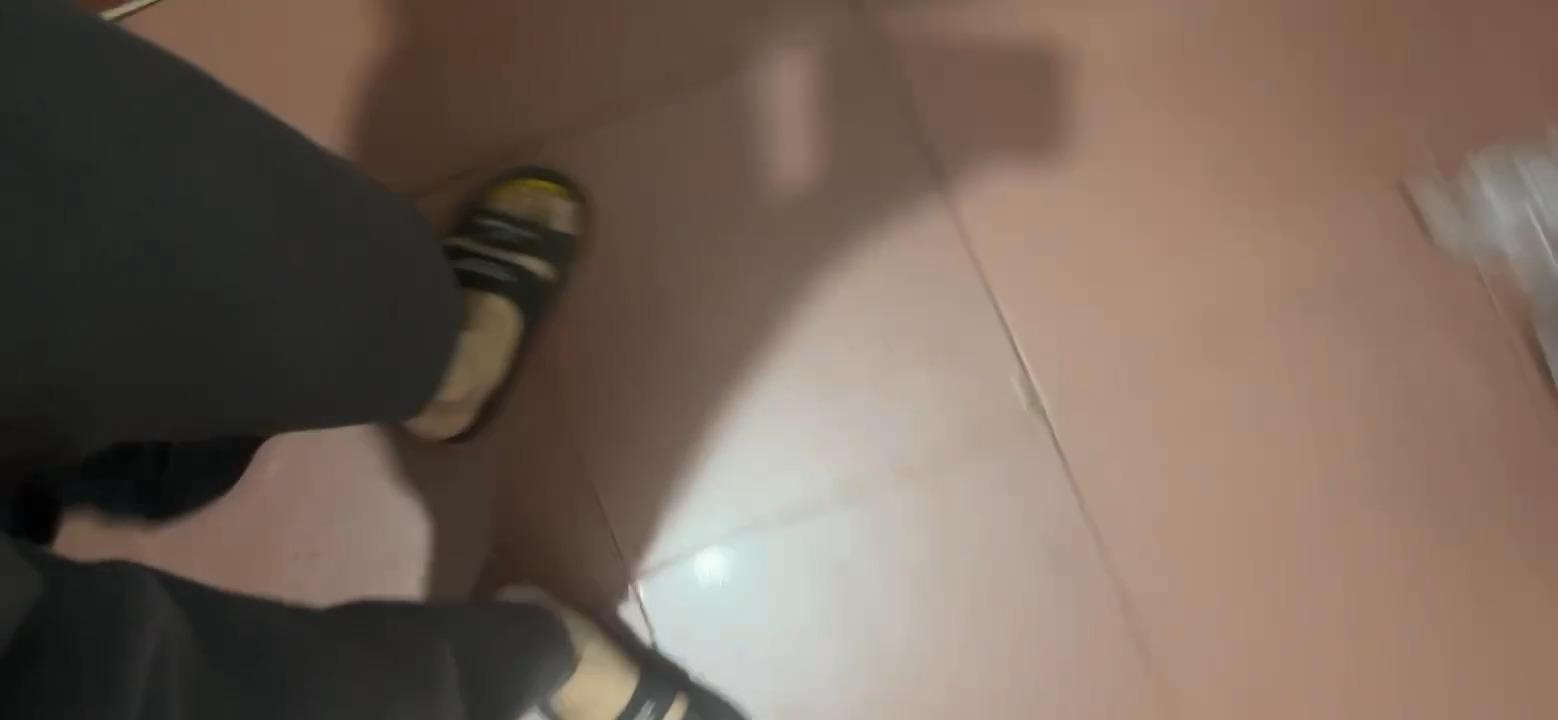no-boot: (401, 155, 604, 456), (509, 573, 728, 720)
